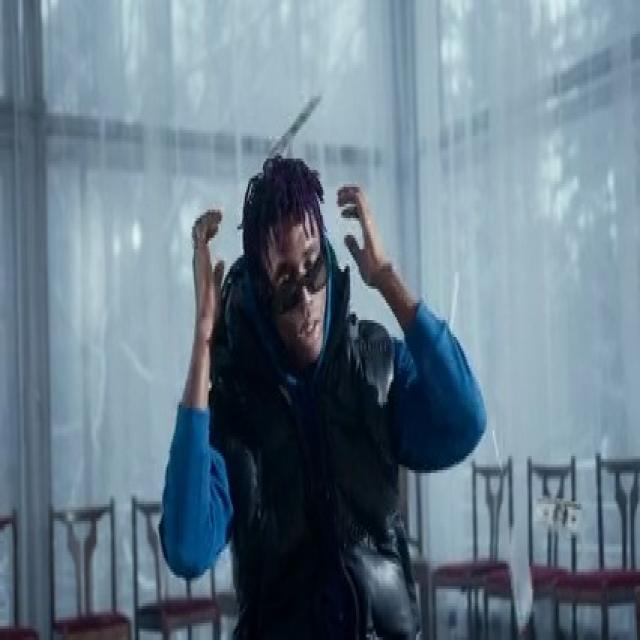Jacket_Wearer: (199, 274, 414, 640)
Person: (152, 98, 477, 640)
